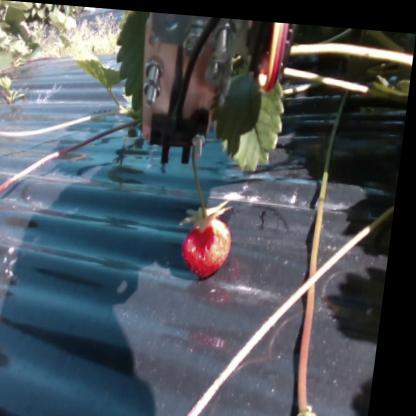ripe: (184, 210, 242, 274)
